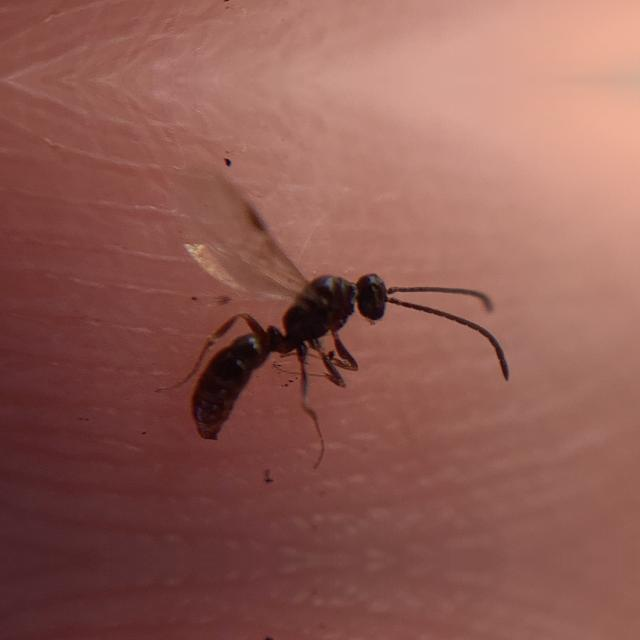Ponera: (154, 202, 430, 462)
